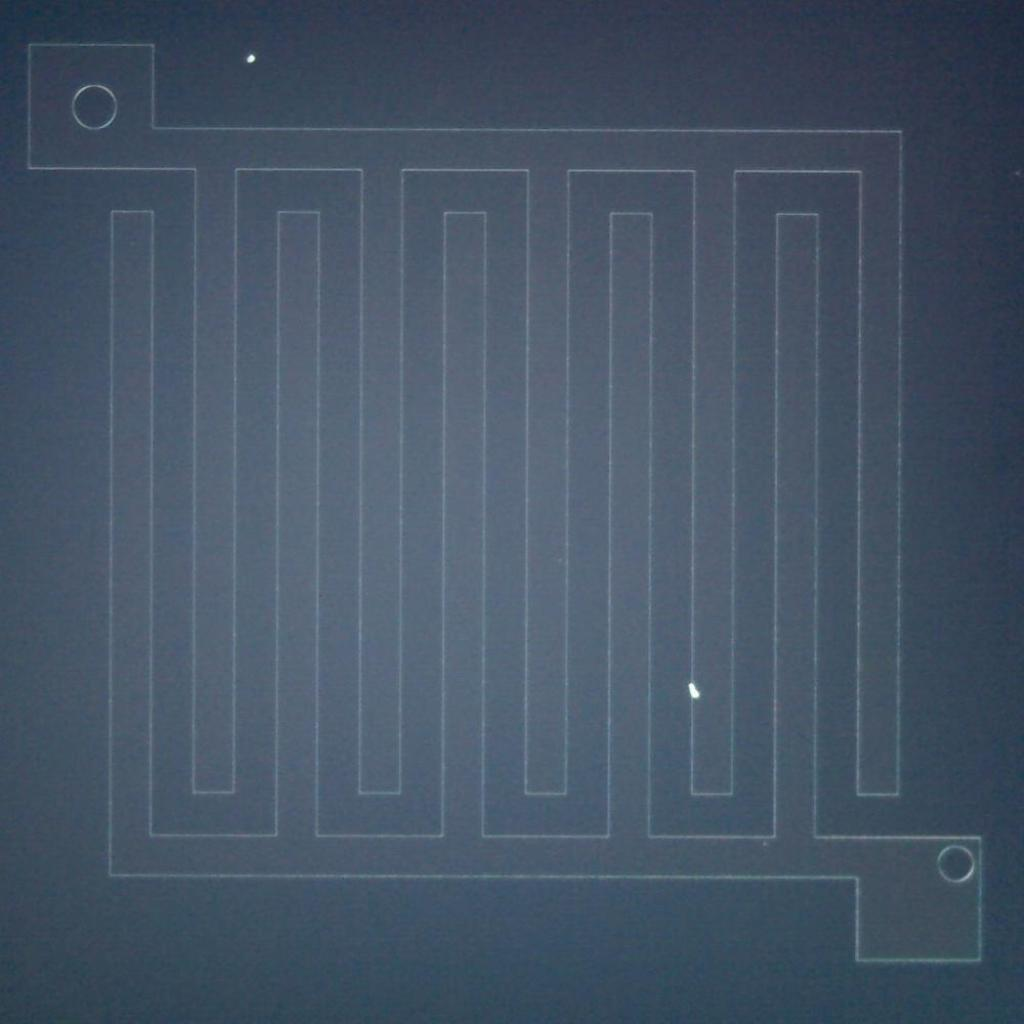circle: (66, 82, 125, 136), (932, 840, 982, 886)
spot: (678, 673, 712, 708)
